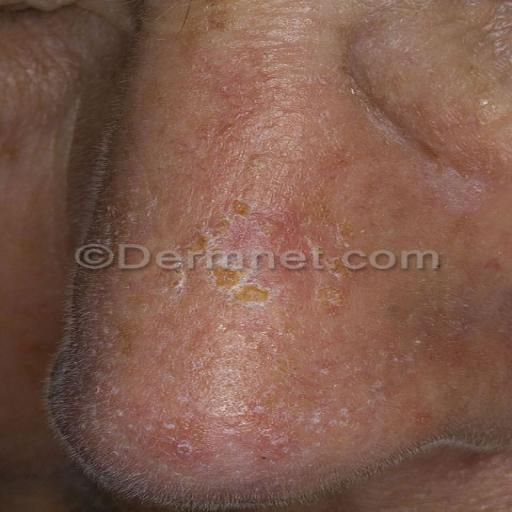Skin_Lesion: (171, 195, 254, 259), (206, 269, 280, 312), (323, 265, 353, 324)
